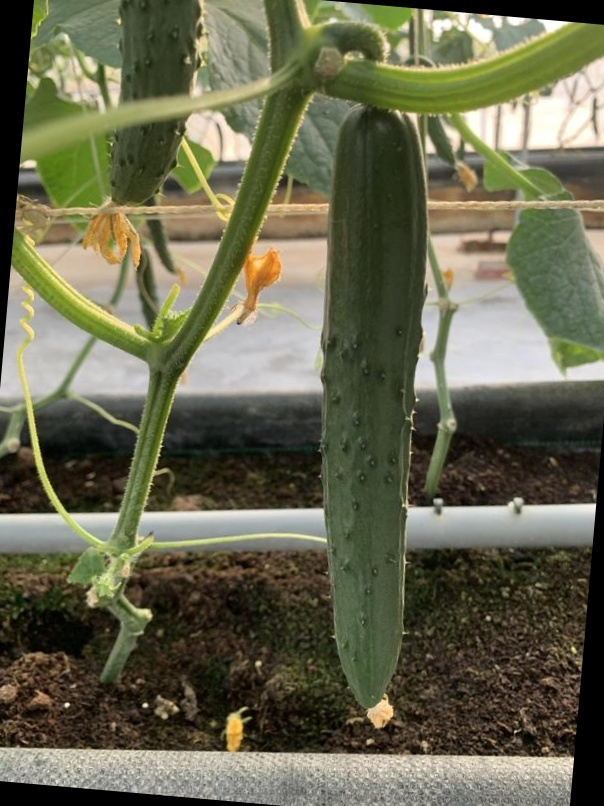mature: (303, 126, 446, 712)
